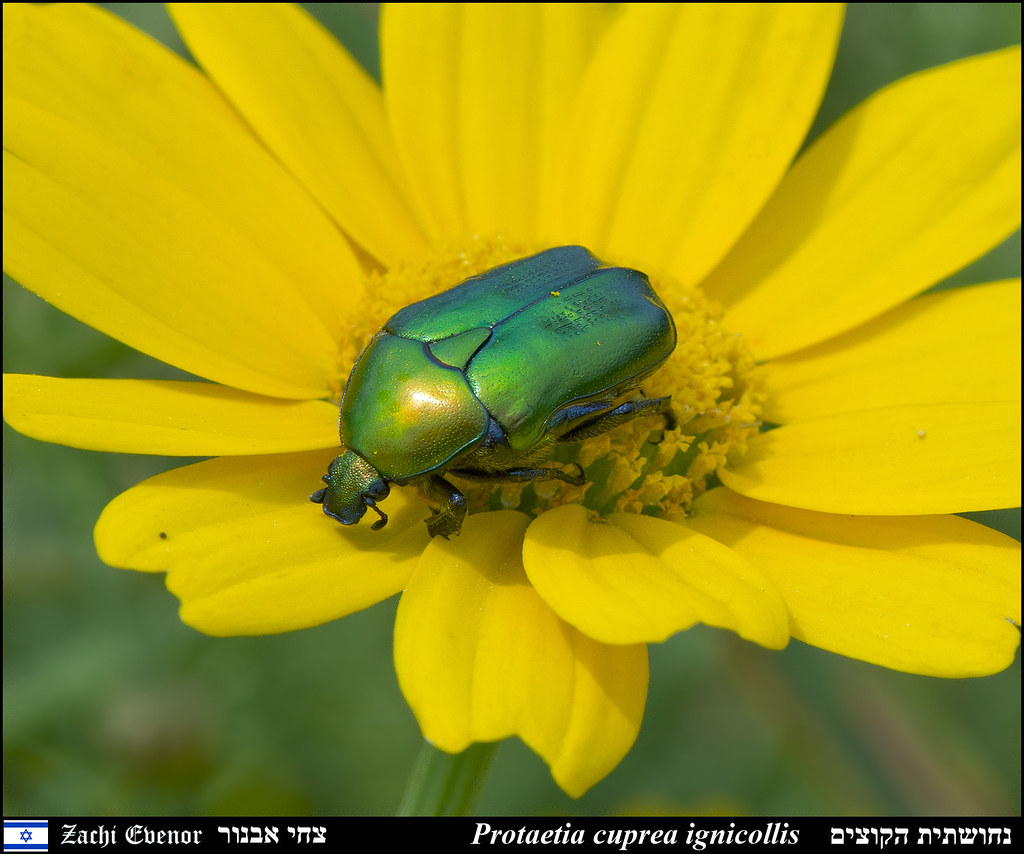Protaetia_cuprea_ignicollis: (309, 233, 695, 554)
